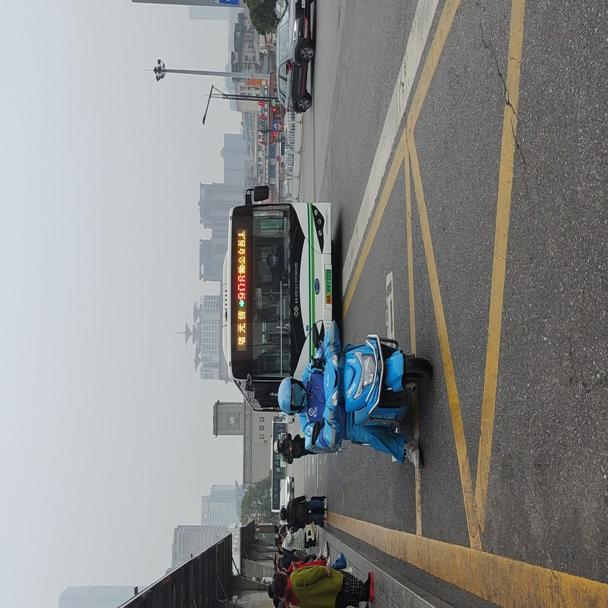bus: (219, 185, 336, 413)
screen: (231, 271, 245, 299)
